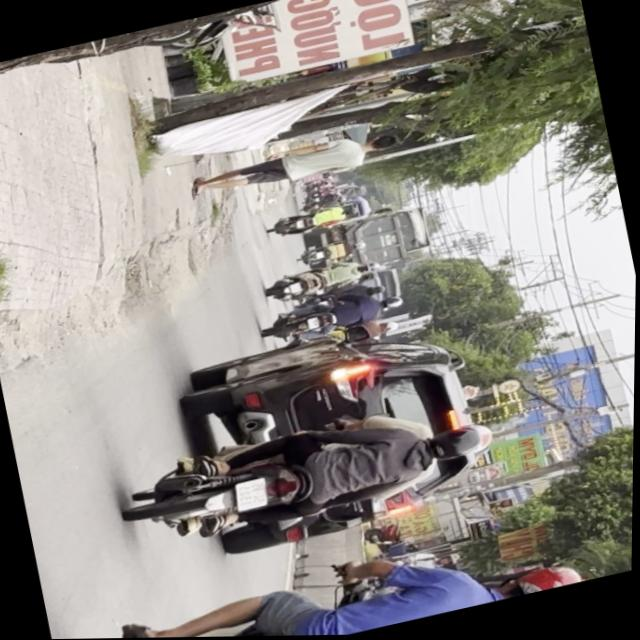helmet: (494, 558, 587, 602), (428, 420, 499, 465), (493, 483, 535, 511)
licenseplate: (117, 384, 510, 561), (52, 512, 591, 639)
nohelmet: (235, 477, 272, 511)
